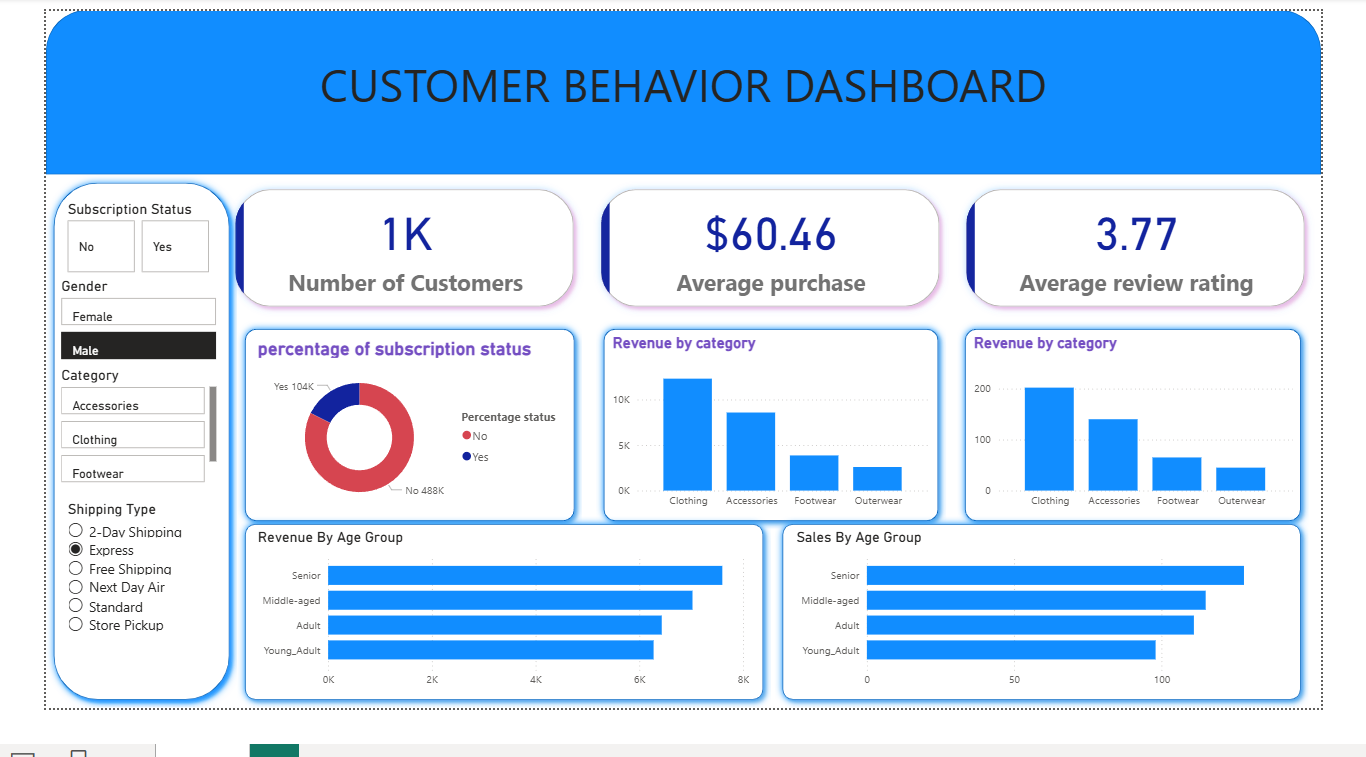

Layout of this report page (visuals, bound fields, positions):
{"tool":"powerbi","page":{"name":"Page 1","canvas":[1500,820],"ordinal":0},"visuals":[{"type":"cardVisual","fields":{"Data":["customer_data.Number of Customers","customer_data.Average purchase","customer_data.Average review rating"]},"box":[205.9,194.1,1294.1,172.1],"z":0},{"type":"shape","box":[0,0,1500,193.6],"z":1000},{"type":"shape","box":[647.1,366.2,411.8,244.1],"z":2000},{"type":"textbox","box":[0,46.2,1500,188.5],"z":3000},{"type":"shape","box":[225,366.2,405.9,244.1],"z":4000},{"type":"shape","box":[1072.1,366.2,413.2,244.1],"z":5000},{"type":"clusteredColumnChart","title":"Revenue by category ","fields":{"Y":["Sum(customer_data.purchase_amount_(usd))"],"Category":["customer_data.category"]},"box":[661.8,380.9,382.4,214.7],"z":6000},{"type":"clusteredColumnChart","title":"Revenue by category ","fields":{"Category":["customer_data.category"],"Y":["CountNonNull(customer_data.customer_id)"]},"box":[1086.8,380.9,385.3,214.7],"z":7000},{"type":"donutChart","title":"percentage of subscription status","fields":{"Category":["customer_data.subscription_status"],"Y":["Sum(customer_data.customer_id)"]},"box":[244.1,385.3,367.6,211.8],"z":8000},{"type":"shape","box":[0,194.1,225,626.5],"z":9000},{"type":"advancedSlicerVisual","title":"Subscription Status","fields":{"Values":["customer_data.subscription_status"]},"box":[20.6,223.5,177.9,91.2],"z":10000},{"type":"advancedSlicerVisual","title":"Gender","fields":{"Values":["customer_data.gender"]},"box":[13.2,314.7,192.6,102.9],"z":11000},{"type":"advancedSlicerVisual","title":"Category","fields":{"Values":["customer_data.category"]},"box":[13.2,419.1,192.6,142.6],"z":12000},{"type":"listSlicer","title":"Shipping Type","fields":{"Values":["customer_data.shipping_type"]},"box":[20.6,576.5,185.3,210.3],"z":13000},{"type":"shape","box":[225,595.6,627.9,225],"z":13001},{"type":"shape","box":[857.4,595.6,627.9,225],"z":13002},{"type":"clusteredBarChart","title":"Revenue By Age Group ","fields":{"Y":["Sum(customer_data.purchase_amount_(usd))"],"Category":["customer_data.age_group"]},"box":[244.1,610.3,588.2,195.6],"z":13003},{"type":"clusteredBarChart","title":"Sales By Age Group","fields":{"Y":["CountNonNull(customer_data.customer_id)"],"Category":["customer_data.age_group"]},"box":[877.9,610.3,588.2,195.6],"z":13004}]}

Visuals, with their boxes in screenshot pixels (x1, y1, x2, y2), scaled from the page's 1500x820 canvas onto the 1366x757 screenshot:
cardVisual - customer_data.Number of Customers x customer_data.Average purchase: bbox(188, 179, 1365, 338)
shape: bbox(0, 0, 1365, 179)
shape: bbox(589, 338, 964, 563)
textbox: bbox(0, 43, 1365, 217)
shape: bbox(205, 338, 575, 563)
shape: bbox(976, 338, 1353, 563)
"Revenue by category " clusteredColumnChart: bbox(603, 352, 951, 550)
"Revenue by category " clusteredColumnChart: bbox(990, 352, 1341, 550)
"percentage of subscription status" donutChart: bbox(222, 356, 557, 551)
shape: bbox(0, 179, 205, 756)
"Subscription Status" advancedSlicerVisual: bbox(19, 206, 181, 291)
"Gender" advancedSlicerVisual: bbox(12, 291, 187, 386)
"Category" advancedSlicerVisual: bbox(12, 387, 187, 519)
"Shipping Type" listSlicer: bbox(19, 532, 188, 726)
shape: bbox(205, 550, 777, 756)
shape: bbox(781, 550, 1353, 756)
"Revenue By Age Group " clusteredBarChart: bbox(222, 563, 758, 744)
"Sales By Age Group" clusteredBarChart: bbox(799, 563, 1335, 744)
